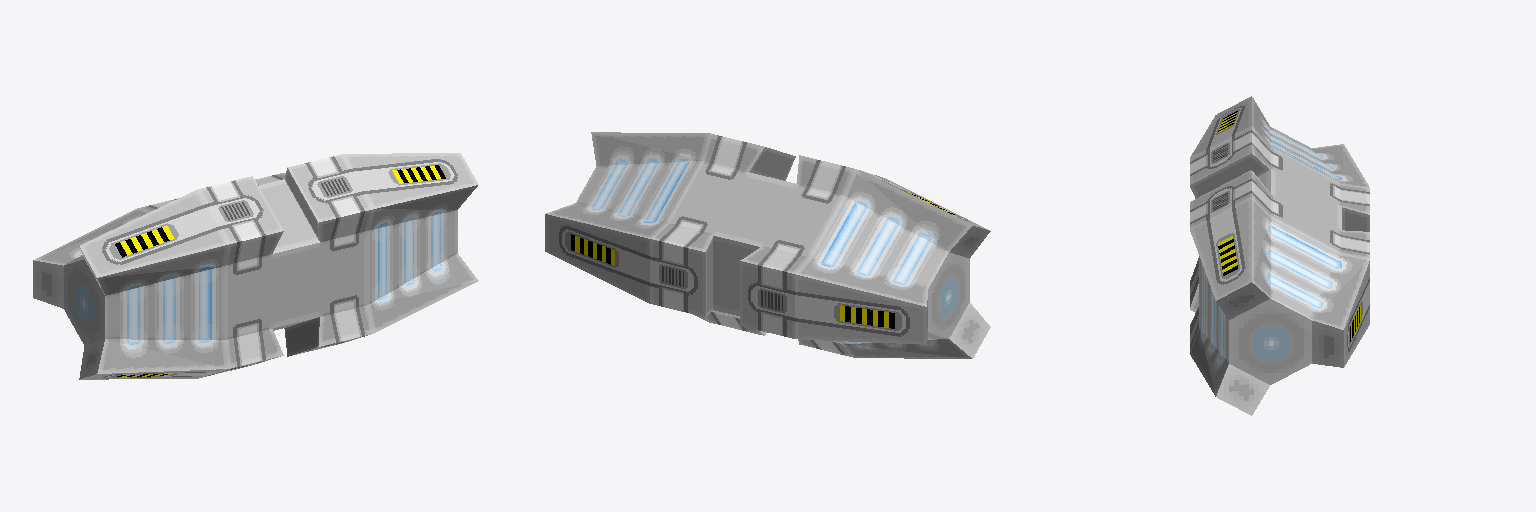
3 renders of one model, left to right at view 1: azimuth 30°, elevation 25°; view 2: azimuth 150°, elevation 25°; view 3: azimuth 270°, elevation 25°, orthographic.
Visible parts, largest first — view 1: cylinder1; view 2: cylinder1; view 3: cylinder1.
Part boxes in pixels (x1,y1,x2,y2): cylinder1: (33,153,478,379); cylinder1: (545,132,990,358); cylinder1: (1190,96,1369,415).
Bounding box in the file's own units: 1.84 × 0.8743 × 0.7572.
1 materials, 1 textured.